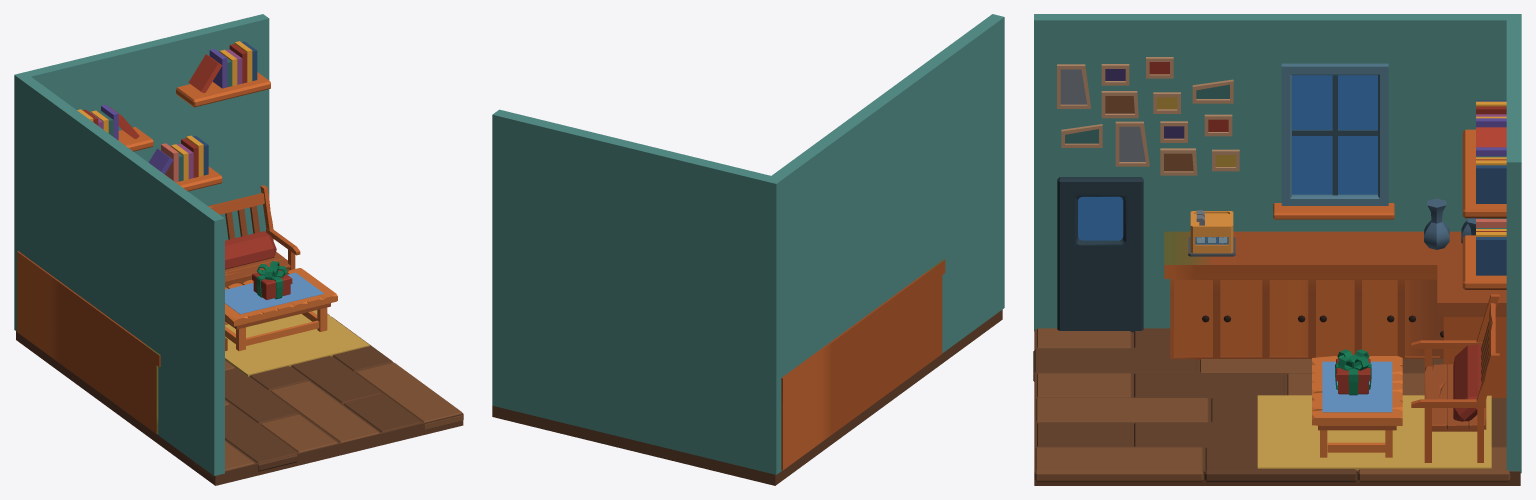
Rendered from Two.fbx.
3 renders of one model, left to right at view 1: azimuth 30°, elevation 25°; view 2: azimuth 150°, elevation 25°; view 3: azimuth 270°, elevation 25°, orthographic. The views are drawn at different scales.
Visible parts, largest first — view 1: pCube1, pCube13, pCube14, pCube2, pCube16, pasted__pCube74, pasted__pCube72, polySurface37, pCube17, pasted__pCube75, TEMPORARY_IMPORT_NAMESPACE_礼物__MeshSha, pasted__pCube69 (+6 smaller); view 2: pCube1, pCube14, pCube2; view 3: pCube1, pCube13, pCube14, pasted__pCube49, pasted__polySurface2504, pCube16, pasted__pCube76, pasted__pCube71, pCube2, polySurface37, polySurface46, polySurface5 (+12 smaller).
Part boxes in pixels (bbox=[...]): pCube1: bbox=[14, 14, 269, 475]; pCube13: bbox=[18, 313, 463, 478]; pCube14: bbox=[17, 251, 227, 434]; pCube2: bbox=[16, 331, 463, 485]; pCube16: bbox=[225, 310, 369, 376]; pasted__pCube74: bbox=[188, 41, 257, 92]; pasted__pCube72: bbox=[148, 135, 208, 182]; polySurface37: bbox=[225, 272, 324, 314]; pCube17: bbox=[225, 231, 276, 269]; pasted__pCube75: bbox=[176, 72, 270, 107]; TEMPORARY_IMPORT_NAMESPACE_礼物__MeshSha: bbox=[252, 261, 292, 299]; pasted__pCube69: bbox=[77, 104, 139, 140]; pCube1: bbox=[492, 14, 1004, 474]; pCube14: bbox=[781, 259, 945, 470]; pCube2: bbox=[492, 309, 1002, 485]; pCube1: bbox=[1034, 14, 1521, 473]; pCube13: bbox=[1033, 328, 1510, 482]; pCube14: bbox=[1164, 231, 1506, 397]; pasted__pCube49: bbox=[1273, 63, 1394, 219]; pasted__polySurface2504: bbox=[1057, 177, 1143, 332]; pCube16: bbox=[1257, 395, 1491, 470]; pasted__pCube76: bbox=[1115, 79, 1239, 175]; pasted__pCube71: bbox=[1057, 57, 1180, 147]; pCube2: bbox=[1034, 329, 1520, 485]; polySurface37: bbox=[1322, 361, 1392, 412]; polySurface46: bbox=[1188, 210, 1235, 256]; polySurface5: bbox=[1425, 364, 1486, 429].
Bounding box in the file's own units: 400 × 402 × 551.
